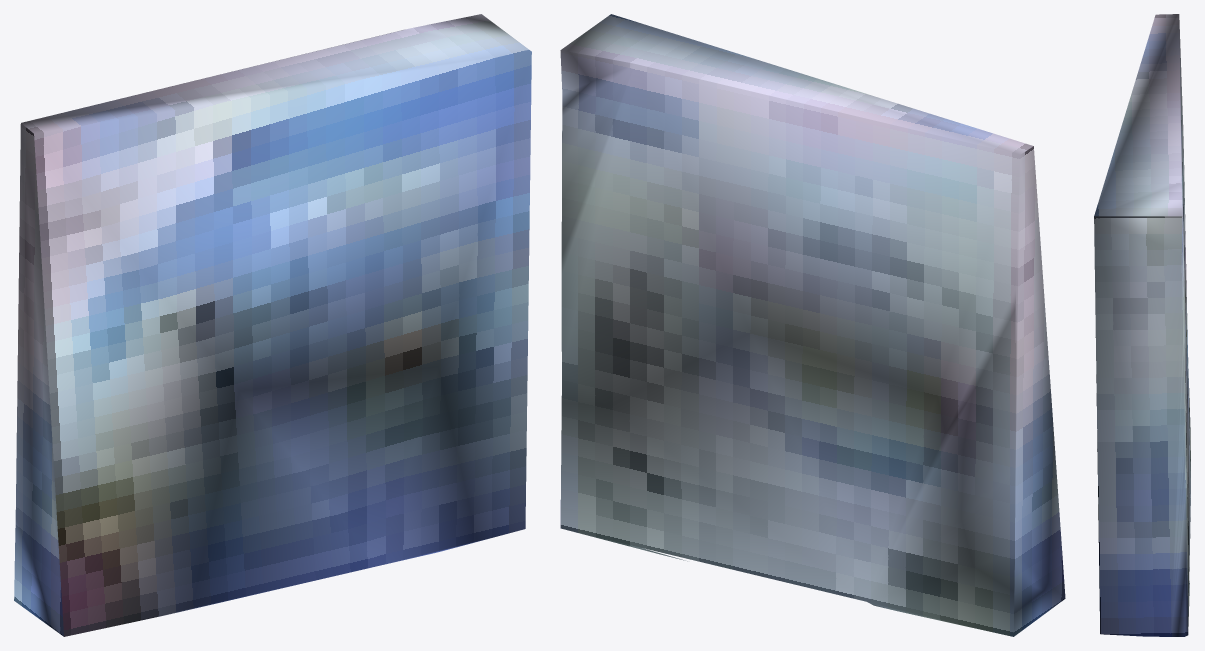
The model's file is Frozen_Olafs_In_Trouble_PopOMatic_Game-low.glb.
The picture shows the model from 3 angles, left to right: view 1: azimuth 30°, elevation 25°; view 2: azimuth 150°, elevation 25°; view 3: azimuth 270°, elevation 25°; orthographic projection. The views are drawn at different scales.
Parts seen in each view (by area): view 1: Frozen_Olafs_In_Trouble_PopOMatic_Game; view 2: Frozen_Olafs_In_Trouble_PopOMatic_Game; view 3: Frozen_Olafs_In_Trouble_PopOMatic_Game.
Boxes of the visible parts, x1,y1,x2,y2 form: Frozen_Olafs_In_Trouble_PopOMatic_Game: [14, 14, 531, 636]; Frozen_Olafs_In_Trouble_PopOMatic_Game: [560, 14, 1065, 636]; Frozen_Olafs_In_Trouble_PopOMatic_Game: [1094, 14, 1190, 636].
Bounding box in the file's own units: 0.2698 × 0.271 × 0.0558.
1 material, 1 textured.
